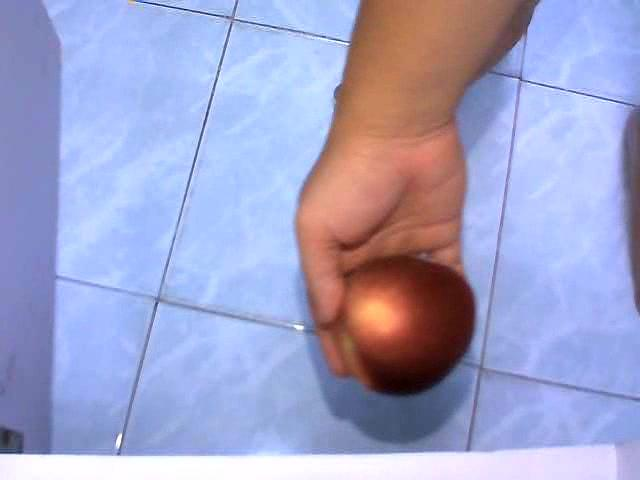apple: (332, 254, 476, 399)
